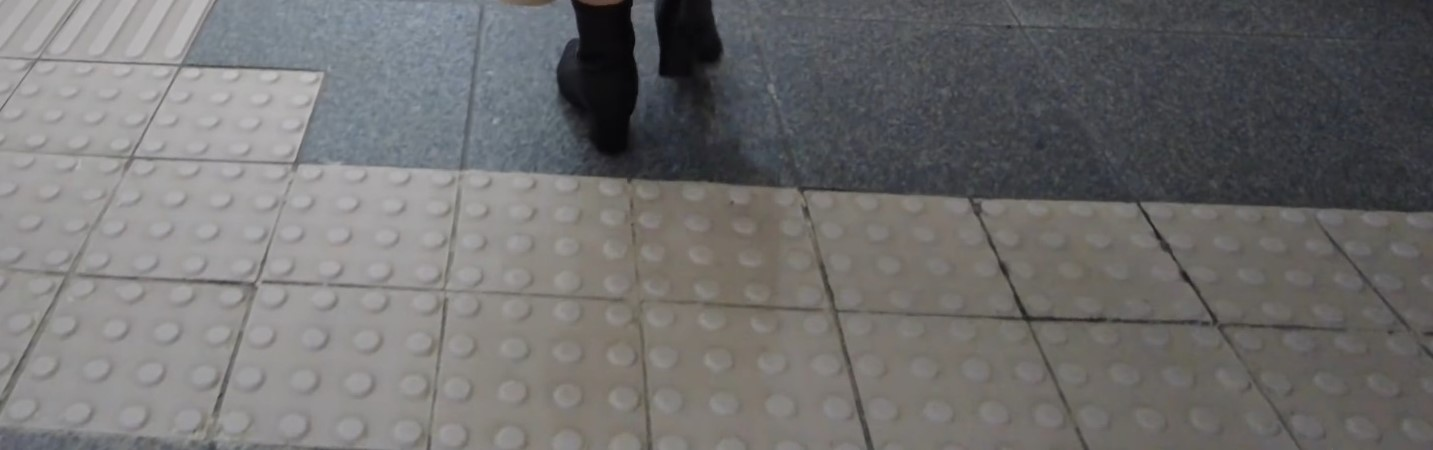warningBlock: (834, 301, 1071, 450), (436, 296, 660, 450), (979, 178, 1205, 330), (1038, 315, 1269, 450), (244, 298, 442, 450), (40, 281, 246, 424), (804, 180, 1009, 323), (1150, 197, 1364, 327), (647, 312, 844, 450), (624, 177, 829, 309), (1232, 323, 1433, 450), (462, 172, 628, 307), (100, 145, 277, 260), (279, 157, 447, 276), (140, 76, 290, 150), (10, 61, 142, 140), (1351, 204, 1433, 330), (9, 158, 105, 262)
